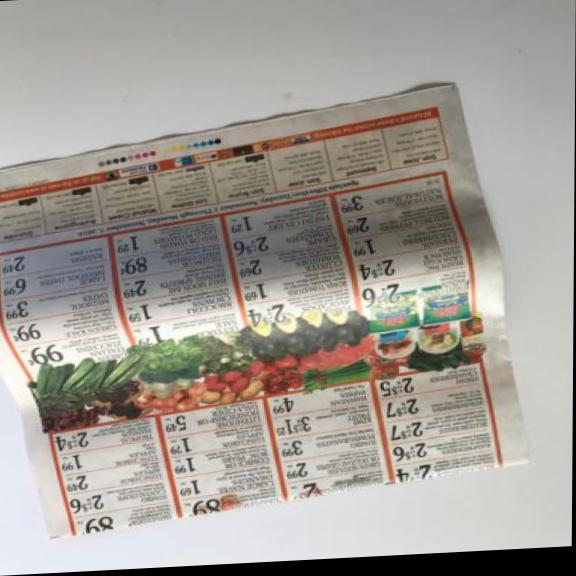Kertas: (0, 72, 543, 548)
